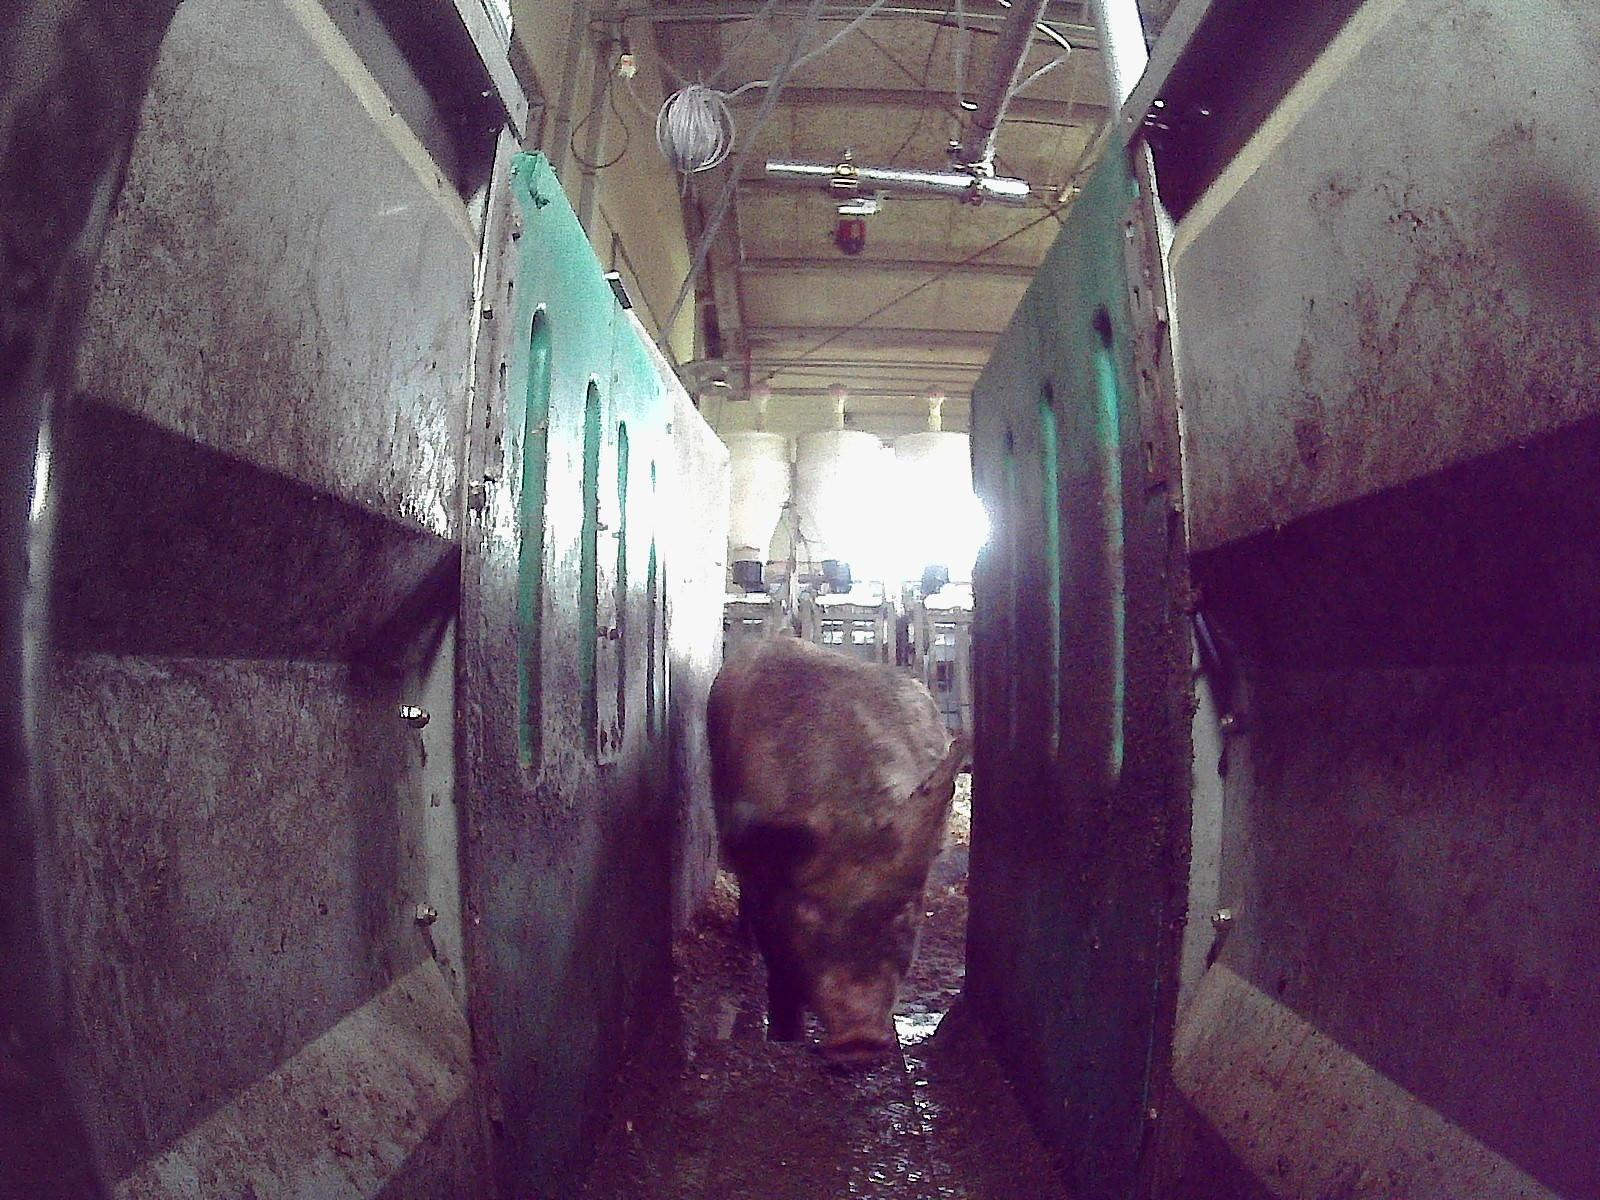Face: (769, 845, 922, 1064)
